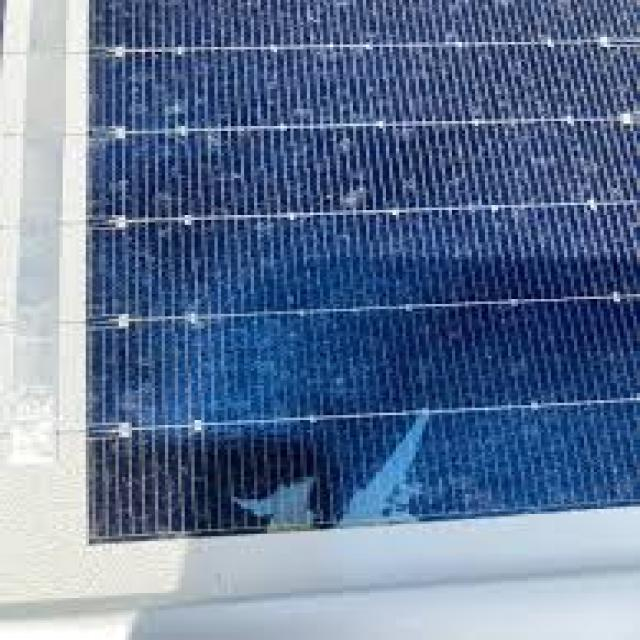faulty: (68, 13, 640, 539)
